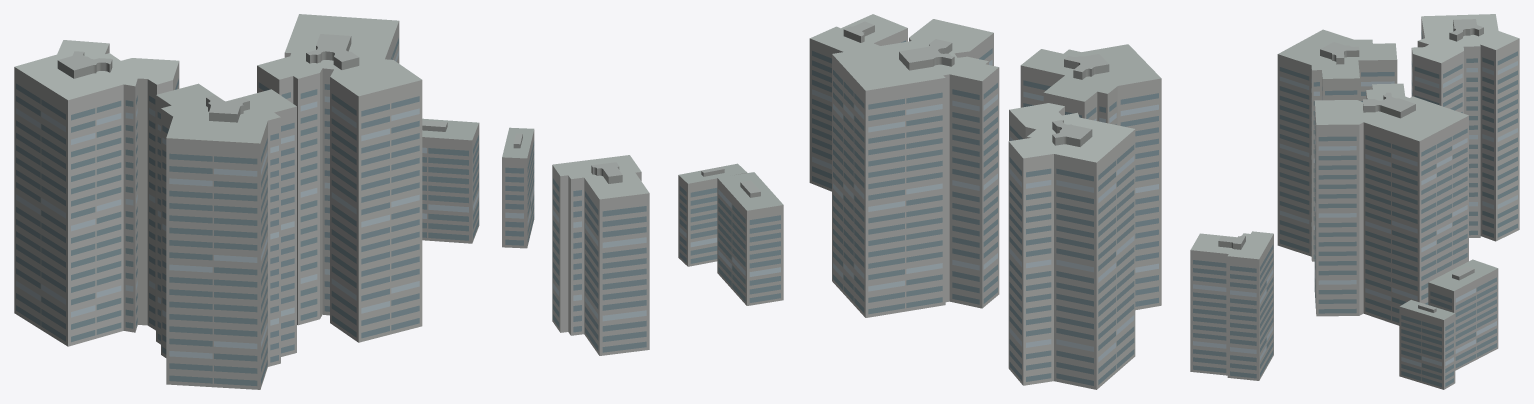
File: apt-a10086801.glb
3 views of the same model, side by side, from view 1: azimuth 30°, elevation 25°; view 2: azimuth 150°, elevation 25°; view 3: azimuth 270°, elevation 25° (orthographic). The views are drawn at different scales.
Visible parts, largest first — view 1: apt-a10086801; view 2: apt-a10086801; view 3: apt-a10086801.
Boxes of the visible parts, bbox=[...] form: apt-a10086801: bbox=[14, 14, 649, 389]; apt-a10086801: bbox=[678, 14, 1161, 389]; apt-a10086801: bbox=[1190, 14, 1519, 389].
Bounding box in the file's own units: 146 × 73 × 110.
